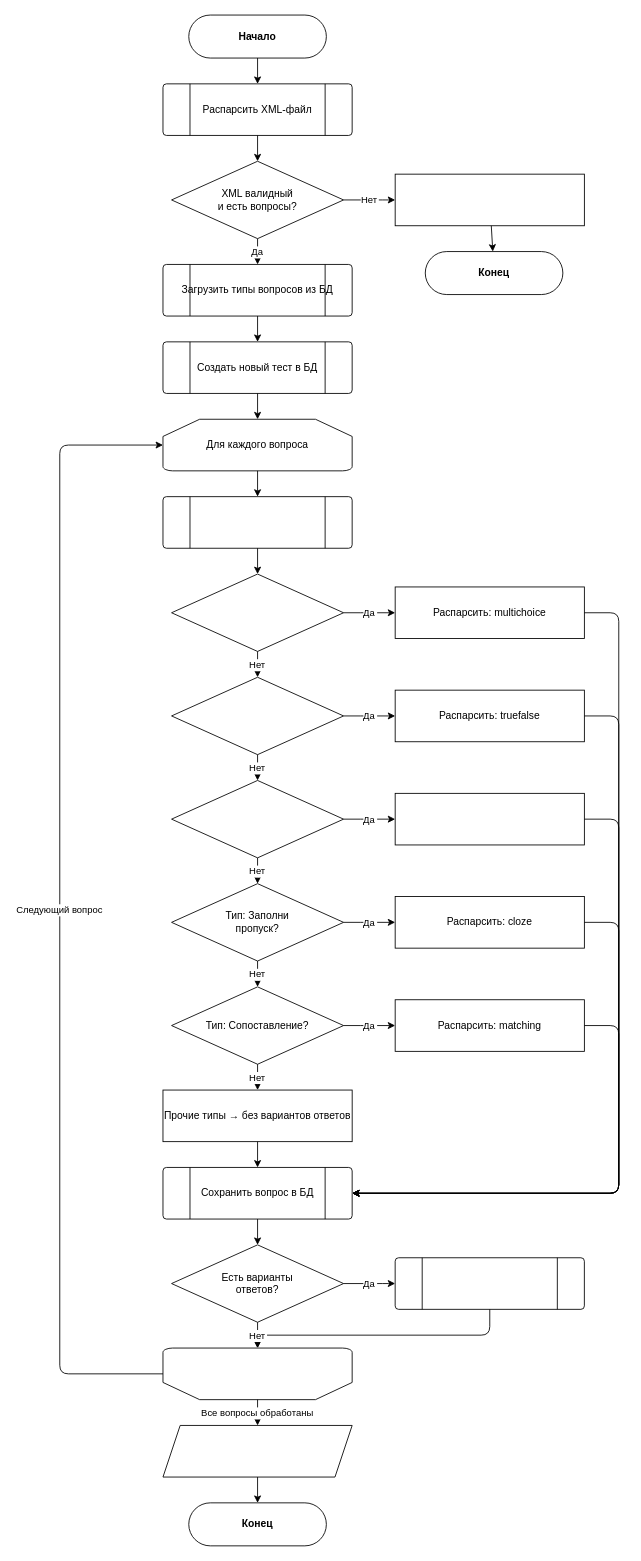
This 641x1561 diagram has some shape labels left out. Here are the shapes that lost their labels. From the top down, the centre of each, then its label:
At (x=489, y=199): "Вернуть ошибку валидации".
At (x=257, y=522): "Определить тип вопроса".
At (x=257, y=612): "Тип: Множественный выбор?".
At (x=257, y=715): "Тип: Да / Нет?".
At (x=257, y=819): "Тип: Короткий или Числовой ответ?".
At (x=489, y=818): "Распарсить: shortanswer / numerical".
At (x=489, y=1283): "Сохранить варианты ответов в БД".
At (x=257, y=1373): "Конец цикла по вопросам".
At (x=257, y=1451): "Вернуть результат импорта".
